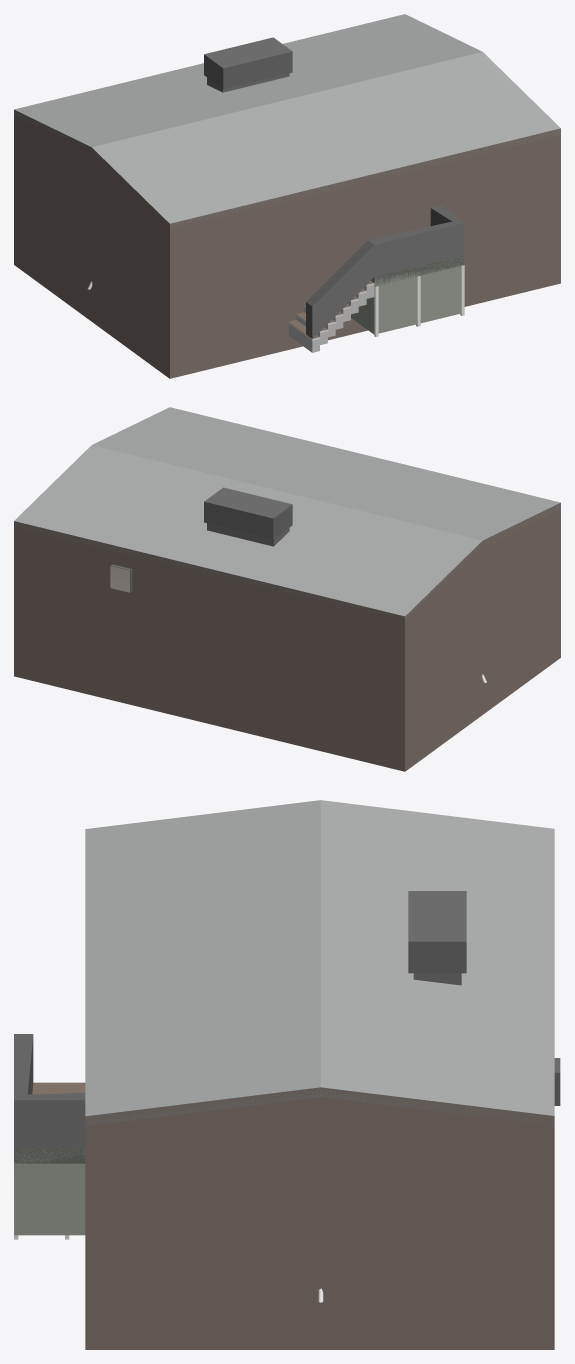
The model's file is office_mobile2.dae.
3 renders of one model, top to bottom at view 1: azimuth 30°, elevation 25°; view 2: azimuth 150°, elevation 25°; view 3: azimuth 270°, elevation 25°, orthographic. The views are drawn at different scales.
Parts seen in each view (by area): view 1: office_mobile2_a025, Colmesh-1, office_mobile2_a500, office_mobile2_a100; view 2: office_mobile2_a025, office_mobile2_a100, office_mobile2_a500; view 3: office_mobile2_a025, office_mobile2_a100, Colmesh-1, office_mobile2_a500.
Boxes of the visible parts, bbox=[...] form: office_mobile2_a025: bbox=[14, 14, 560, 378]; Colmesh-1: bbox=[288, 205, 464, 352]; office_mobile2_a500: bbox=[87, 73, 464, 340]; office_mobile2_a100: bbox=[14, 37, 560, 338]; office_mobile2_a025: bbox=[14, 407, 560, 771]; office_mobile2_a100: bbox=[14, 487, 560, 621]; office_mobile2_a500: bbox=[110, 523, 486, 682]; office_mobile2_a025: bbox=[85, 800, 554, 1349]; office_mobile2_a100: bbox=[14, 891, 560, 1163]; Colmesh-1: bbox=[14, 1034, 85, 1235]; office_mobile2_a500: bbox=[14, 973, 461, 1302].
Size of the model in its own units: 12.9 by 10.18 by 5.95.
